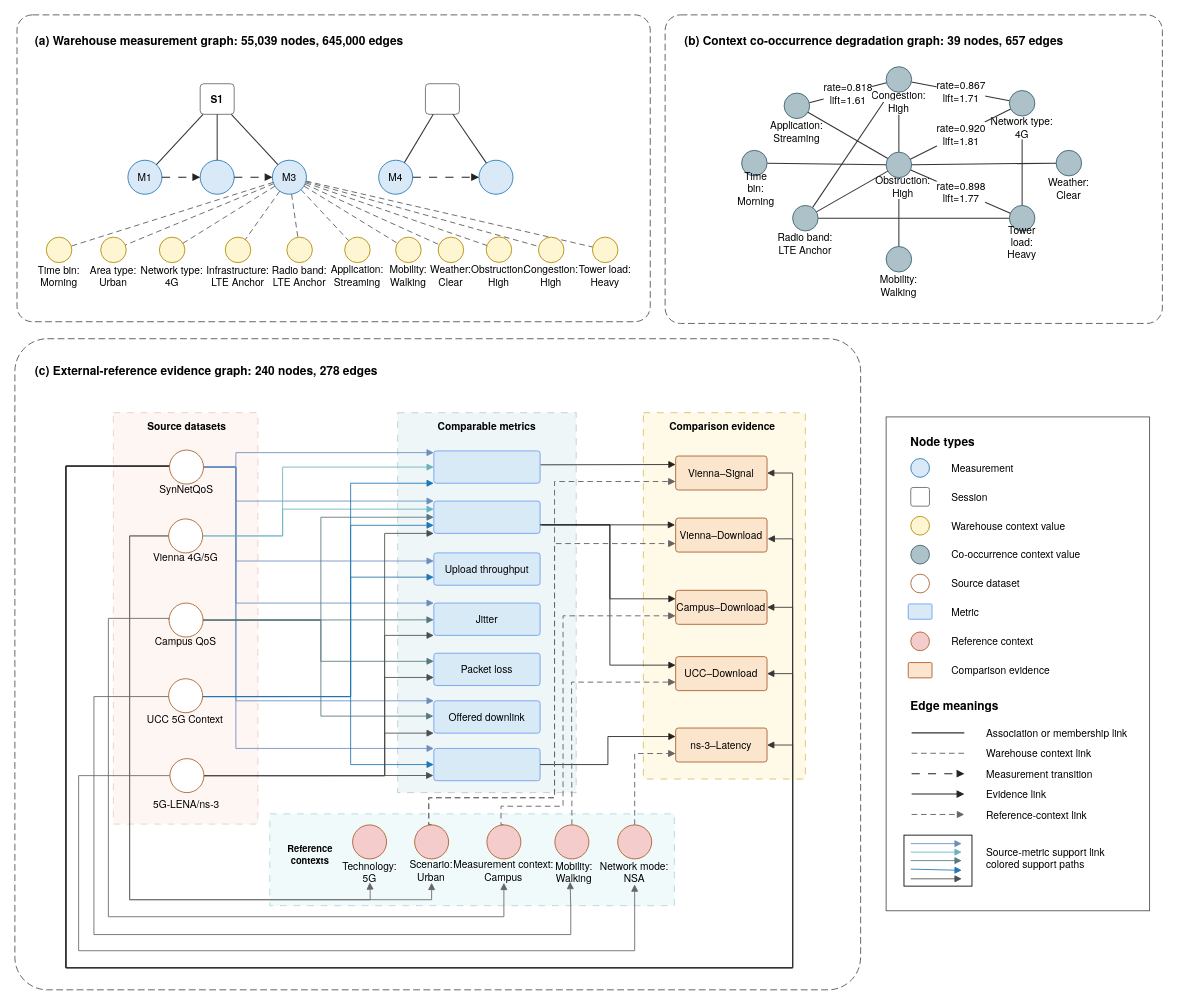
This 1187x1005 diagram has some shape labels left out. Here are the shapes that lost their labels. From the top down, the centre of each, then its label:
the point at 442,98: S2
the point at 216,176: M2
the point at 495,176: M5
the point at 486,466: Signal / RSRP (dBm)
the point at 486,516: Download throughput
the point at 486,764: Latency
